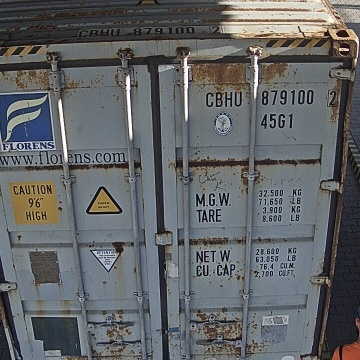serial_id: (206, 89, 339, 106)
